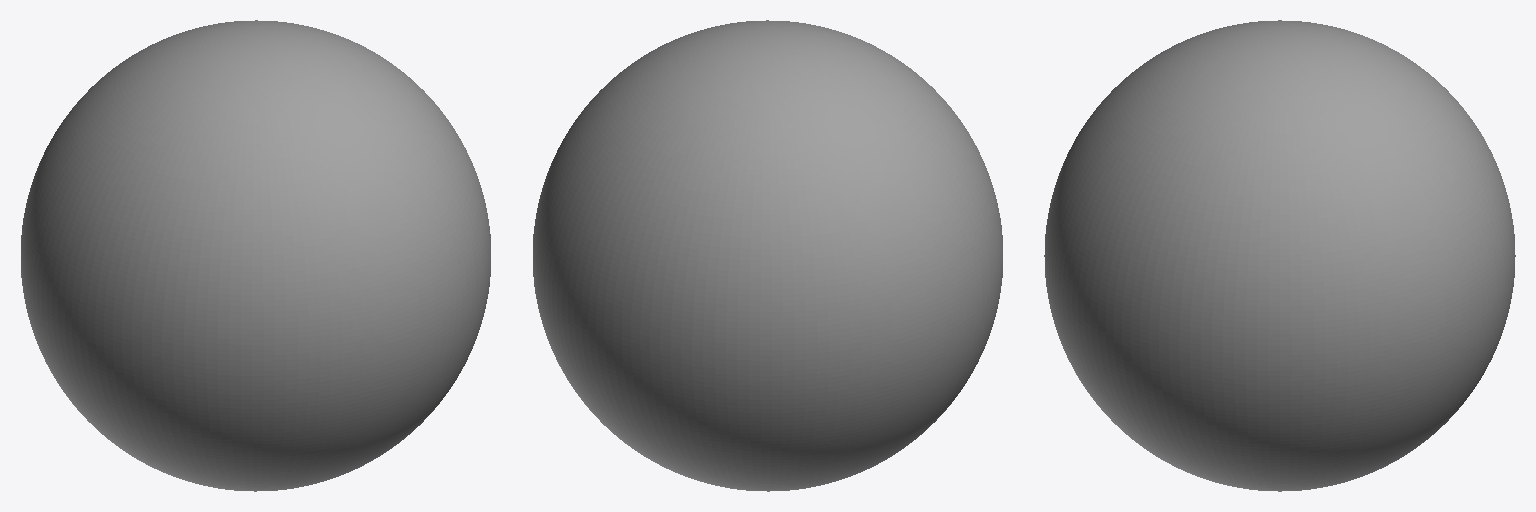
The model's file is Sol.obj.
The picture shows the model from 3 angles: view 1: azimuth 30°, elevation 25°; view 2: azimuth 150°, elevation 25°; view 3: azimuth 270°, elevation 25°; orthographic projection.
Visible parts, largest first — view 1: Moon_Sphere.001; view 2: Moon_Sphere.001; view 3: Moon_Sphere.001.
Boxes of the visible parts, x1,y1,x2,y2 form: Moon_Sphere.001: [21, 20, 490, 491]; Moon_Sphere.001: [533, 20, 1002, 491]; Moon_Sphere.001: [1044, 20, 1515, 491].
Bounding box in the file's own units: 2 × 2 × 2.